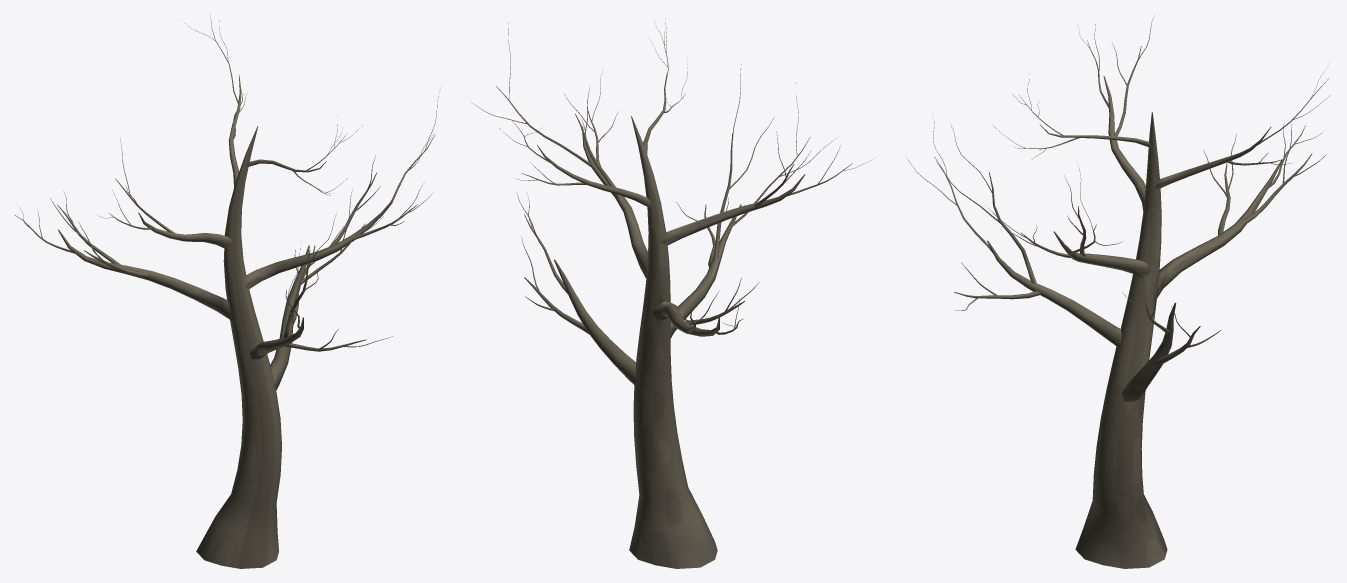
Rendered from tree.gltf.
3 renders of one model, left to right at view 1: azimuth 30°, elevation 25°; view 2: azimuth 150°, elevation 25°; view 3: azimuth 270°, elevation 25°, orthographic. The views are drawn at different scales.
Visible parts, largest first — view 1: Tree_LOD0; view 2: Tree_LOD0; view 3: Tree_LOD0.
Part boxes in pixels (box(x1,y1,x2,y2)): Tree_LOD0: box(15, 14, 438, 568); Tree_LOD0: box(471, 14, 871, 568); Tree_LOD0: box(906, 17, 1330, 568).
Bounding box in the file's own units: 13.83 × 16.8 × 12.8.
1 material, 1 textured.
